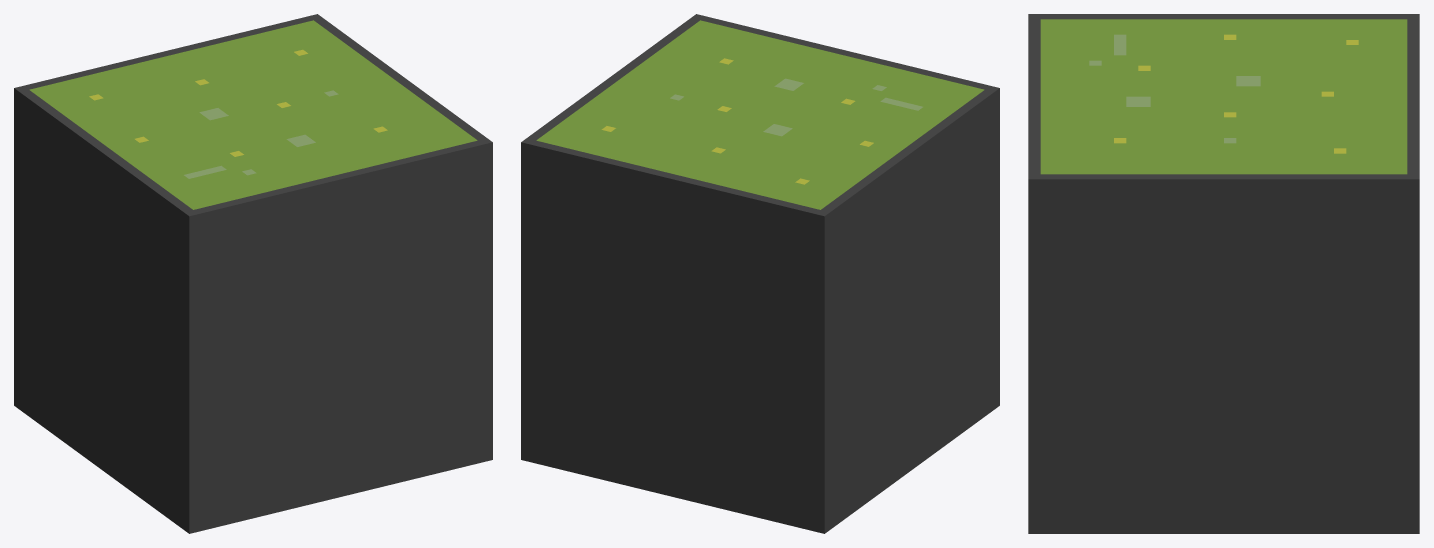
File: grass.glb
3 renders of one model, left to right at view 1: azimuth 30°, elevation 25°; view 2: azimuth 150°, elevation 25°; view 3: azimuth 270°, elevation 25°, orthographic. The views are drawn at different scales.
Visible parts, largest first — view 1: Node; view 2: Node; view 3: Node.
Boxes of the visible parts, x1,y1,x2,y2 form: Node: [14, 14, 492, 533]; Node: [521, 14, 999, 533]; Node: [1028, 14, 1419, 533].
Size of the model in its own units: 3.2 by 3.2 by 3.2.
1 material, 1 textured.
